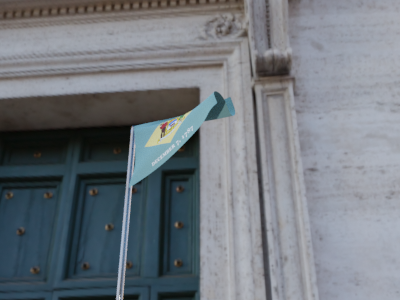Delaware flag: (127, 91, 237, 187)
